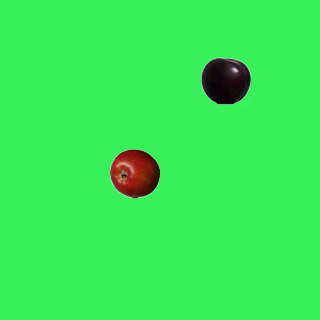Apple Braeburn: (109, 148, 159, 198)
Cherry Wax Black: (200, 55, 250, 105)
